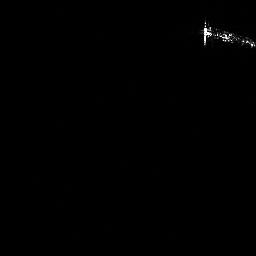ship: (200, 17, 256, 49)
